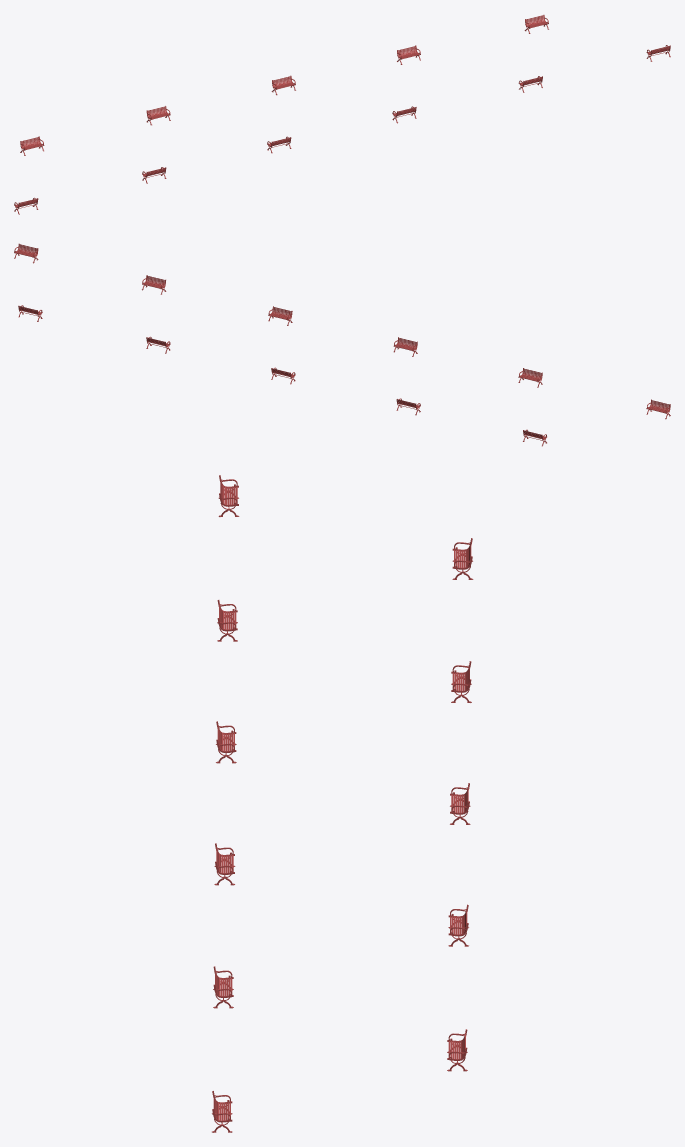
Rendered from Benches.fbx.
The picture shows the model from 3 angles, top to bottom: view 1: azimuth 30°, elevation 25°; view 2: azimuth 150°, elevation 25°; view 3: azimuth 270°, elevation 25°; orthographic projection. The views are drawn at different scales.
Size of what is drawn, in the model's own units: 6677 by 113 by 1162.
